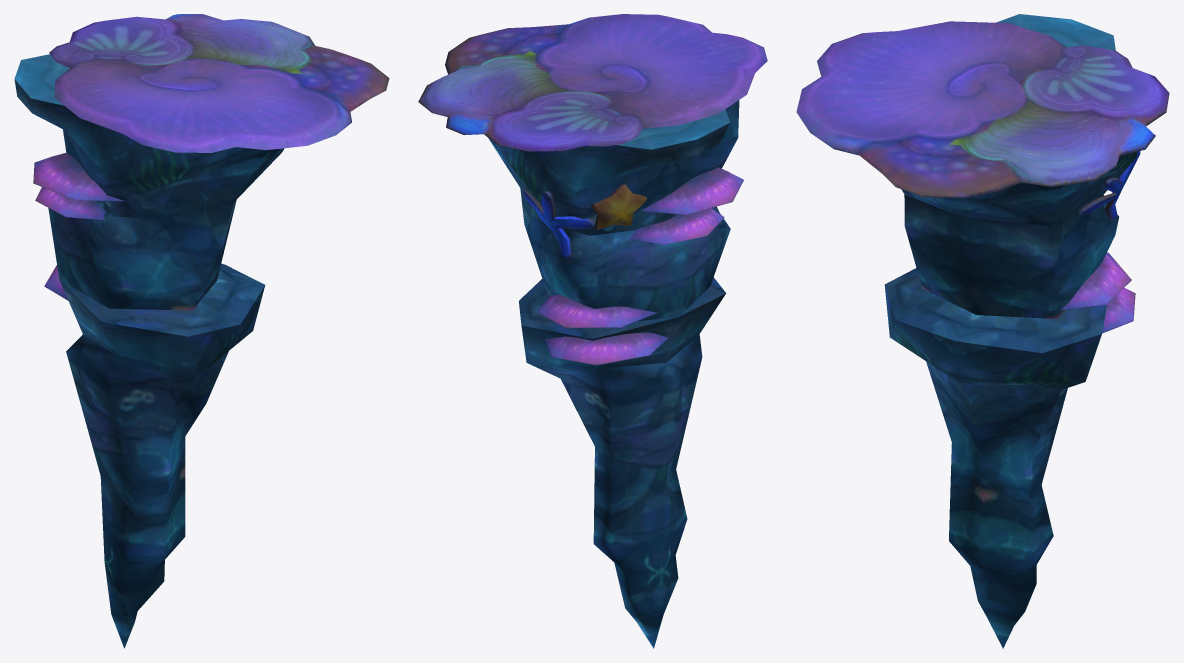
Rendered from map_113_shitou_1.fbx.
3 views of the same model, side by side, from view 1: azimuth 30°, elevation 25°; view 2: azimuth 150°, elevation 25°; view 3: azimuth 270°, elevation 25° (orthographic). The views are drawn at different scales.
Visible parts, largest first — view 1: map_113_shitou_1; view 2: map_113_shitou_1; view 3: map_113_shitou_1.
Part boxes in pixels (box(x1,y1,x2,y2)): map_113_shitou_1: box(14, 14, 389, 648); map_113_shitou_1: box(418, 14, 767, 648); map_113_shitou_1: box(796, 14, 1169, 648).
Size of the model in its own units: 6.81 by 11.86 by 6.7.
